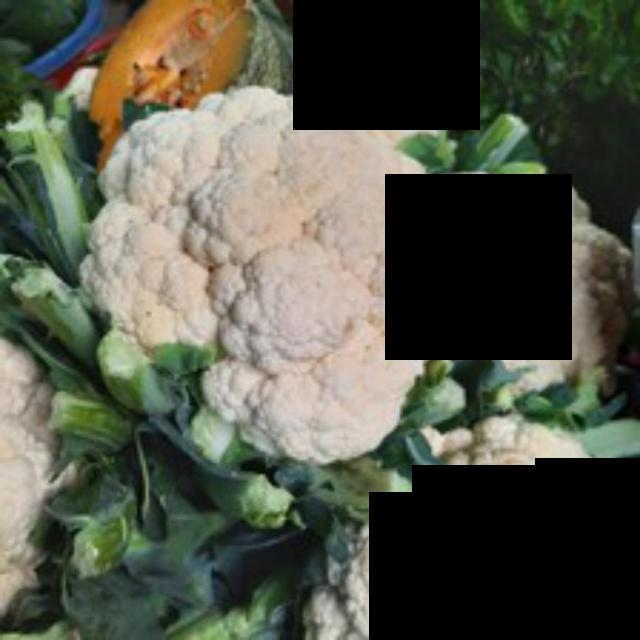cauliflower: (88, 77, 511, 490)
